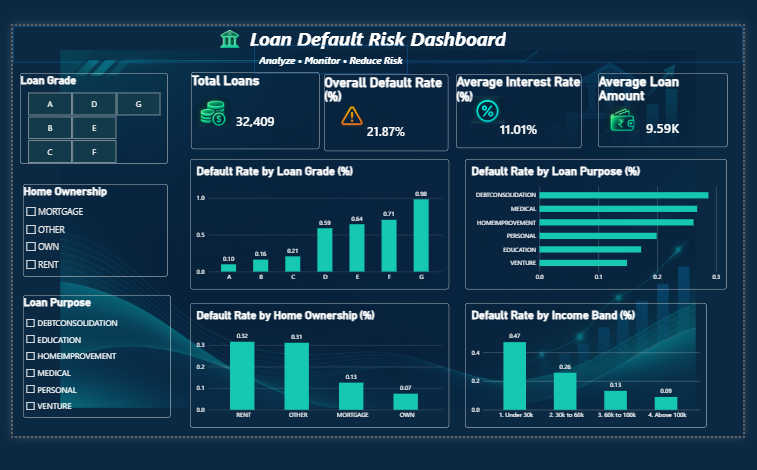

Layout of this report page (visuals, bound fields, positions):
{"tool":"powerbi","page":{"name":"Dashboard","canvas":[1920,1080],"ordinal":0},"visuals":[{"type":"cardVisual","title":"Total Loans","fields":{"Data":["loan_data_clean.Total Loans"]},"box":[467.9,122.1,337.8,202.7],"z":0},{"type":"cardVisual","title":"Overall Default Rate (%)","fields":{"Data":["loan_data_clean.Default Rate %"]},"box":[818.9,127.2,327,202.7],"z":1000},{"type":"cardVisual","title":"Average Interest Rate (%)","fields":{"Data":["loan_data_clean.Avg Interest Rate"]},"box":[1164.7,127.2,329.7,194.6],"z":2000},{"type":"cardVisual","title":"Average Loan Amount","fields":{"Data":["loan_data_clean.Avg Loan Amount"]},"box":[1539.5,123.5,340.5,194.6],"z":3000},{"type":"clusteredColumnChart","title":"Default Rate by Loan Grade (%)","fields":{"Category":["loan_data_clean.loan_grade"],"Y":["loan_data_clean.Default Rate %"]},"box":[465.4,350.9,681.5,343.3],"z":4000},{"type":"clusteredBarChart","title":"Default Rate by Loan Purpose (%)","fields":{"Category":["loan_data_clean.loan_intent"],"Y":["loan_data_clean.Default Rate %"]},"box":[1190.1,350.9,689.2,343.3],"z":5000},{"type":"clusteredColumnChart","title":"Default Rate by Home Ownership (%)","fields":{"Category":["loan_data_clean.person_home_ownership"],"Y":["loan_data_clean.Default Rate %"]},"box":[465.4,729.9,681.5,328.1],"z":6000},{"type":"clusteredColumnChart","title":"Default Rate by Income Band (%)","fields":{"Category":["loan_data_clean.Income Band"],"Y":["loan_data_clean.Default Rate %"]},"box":[1190.1,729.9,635.8,328.1],"z":7000},{"type":"slicer","title":"Home Ownership","fields":{"Values":["loan_data_clean.person_home_ownership"]},"box":[25.4,417.1,381.5,244.1],"z":8000},{"type":"slicer","title":"Loan Purpose","fields":{"Values":["loan_data_clean.loan_intent"]},"box":[25.4,707,389.1,323],"z":9000},{"type":"shape","box":[0,0,1920,95.7],"z":10000},{"type":"slicer","title":"Loan Grade","fields":{"Values":["loan_data_clean.loan_grade"]},"box":[17.8,124.6,389.1,239],"z":11000},{"type":"image","box":[466.1,176.4,115.9,100.8],"z":12000},{"type":"image","box":[854.5,180.6,76.3,107.9],"z":13000},{"type":"image","box":[1190.1,175.5,121.1,89.5],"z":14000},{"type":"image","box":[1557.9,200,92.1,89.5],"z":15000},{"type":"image","box":[511.5,0,120.9,68],"z":16000},{"type":"shape","box":[633.2,50.9,404.3,76.3],"z":17000}]}

Visuals, with their boxes in screenshot pixels (x1, y1, x2, y2):
"Total Loans" cardVisual: box=[191, 85, 318, 161]
"Overall Default Rate (%)" cardVisual: box=[323, 87, 446, 163]
"Average Interest Rate (%)" cardVisual: box=[453, 87, 576, 160]
"Average Loan Amount" cardVisual: box=[593, 86, 721, 159]
"Default Rate by Loan Grade (%)" clusteredColumnChart: box=[190, 171, 446, 300]
"Default Rate by Loan Purpose (%)" clusteredBarChart: box=[462, 171, 721, 300]
"Default Rate by Home Ownership (%)" clusteredColumnChart: box=[190, 313, 446, 436]
"Default Rate by Income Band (%)" clusteredColumnChart: box=[462, 313, 701, 436]
"Home Ownership" slicer: box=[25, 196, 168, 287]
"Loan Purpose" slicer: box=[25, 305, 171, 426]
shape: box=[16, 39, 736, 75]
"Loan Grade" slicer: box=[22, 86, 168, 176]
image: box=[191, 106, 234, 143]
image: box=[336, 107, 365, 148]
image: box=[462, 105, 508, 139]
image: box=[600, 114, 635, 148]
image: box=[208, 39, 253, 65]
shape: box=[253, 59, 405, 87]
